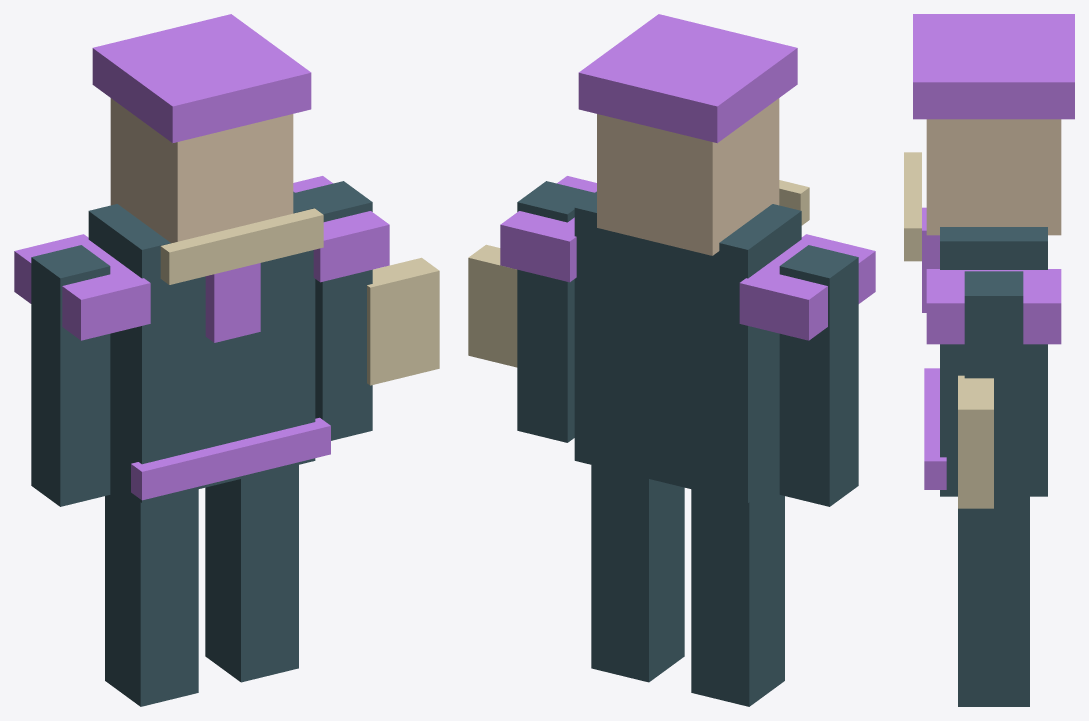
File: 11_varren_tideforged_oracle_near.glb
3 renders of one model, left to right at view 1: azimuth 30°, elevation 25°; view 2: azimuth 150°, elevation 25°; view 3: azimuth 270°, elevation 25°, orthographic.
Parts seen in each view (by area): view 1: Varren Tideforged, Oracle near; view 2: Varren Tideforged, Oracle near; view 3: Varren Tideforged, Oracle near.
Part boxes in pixels (box(x1,y1,x2,y2)): Varren Tideforged, Oracle near: box(14, 14, 439, 706); Varren Tideforged, Oracle near: box(468, 14, 875, 706); Varren Tideforged, Oracle near: box(904, 14, 1074, 706).
Bounding box in the file's own units: 1.06 × 1.65 × 0.4118.
